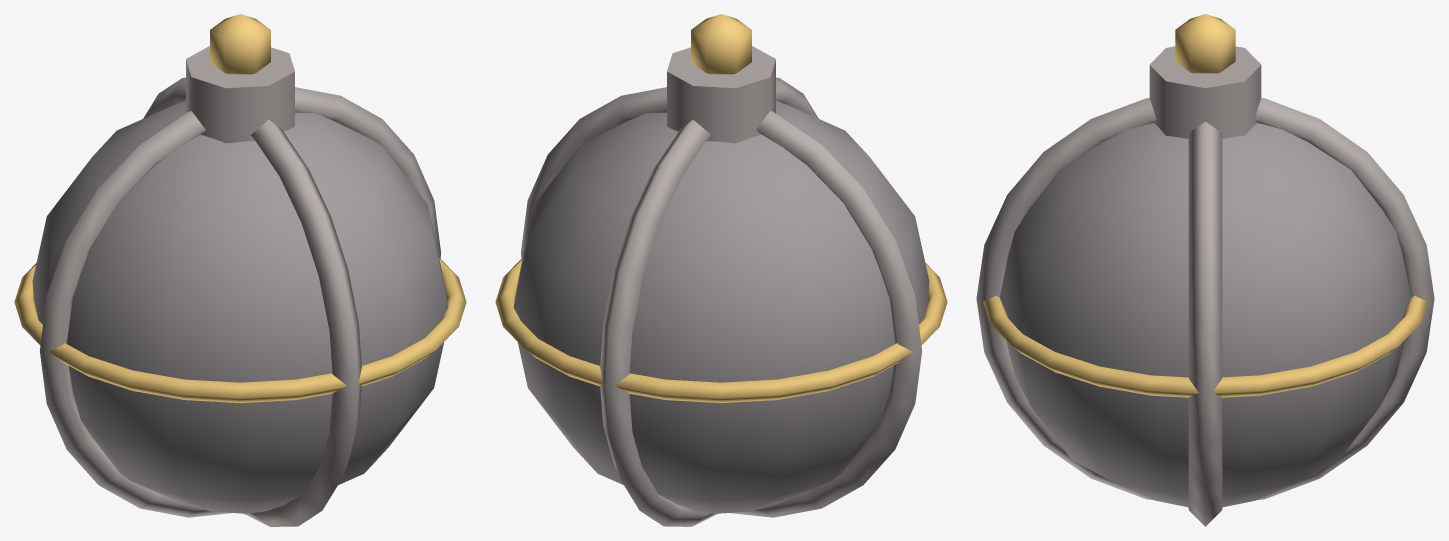
File: shot_grenade.glb
3 views of the same model, side by side, from view 1: azimuth 30°, elevation 25°; view 2: azimuth 150°, elevation 25°; view 3: azimuth 270°, elevation 25° (orthographic).
Visible parts, largest first — view 1: iron*1.3, girder*1.4, girder*1.001, glow*0.8, girder*1.002, glow*0.9; view 2: iron*1.3, girder*1.4, girder*1.001, glow*0.8, girder*1.002, glow*0.9; view 3: iron*1.3, girder*1.001, girder*1.4, glow*0.8, girder*1.002, glow*0.9.
Part boxes in pixels (x1,y1,x2,y2): iron*1.3: (32, 100, 448, 513); girder*1.4: (40, 87, 440, 517); girder*1.001: (143, 77, 361, 526); glow*0.8: (14, 257, 466, 403); girder*1.002: (186, 46, 294, 143); glow*0.9: (210, 14, 270, 74); iron*1.3: (513, 100, 929, 513); girder*1.4: (521, 87, 921, 517); girder*1.001: (600, 77, 818, 526); glow*0.8: (495, 257, 947, 403); girder*1.002: (667, 46, 775, 143); glow*0.9: (691, 14, 751, 74); iron*1.3: (999, 123, 1411, 507); girder*1.001: (976, 98, 1434, 500); girder*1.4: (1188, 121, 1222, 526); glow*0.8: (983, 295, 1427, 397); girder*1.002: (1149, 46, 1261, 138); glow*0.9: (1175, 14, 1235, 73).
Bounding box in the file's own units: 0.328 × 0.389 × 0.328.
